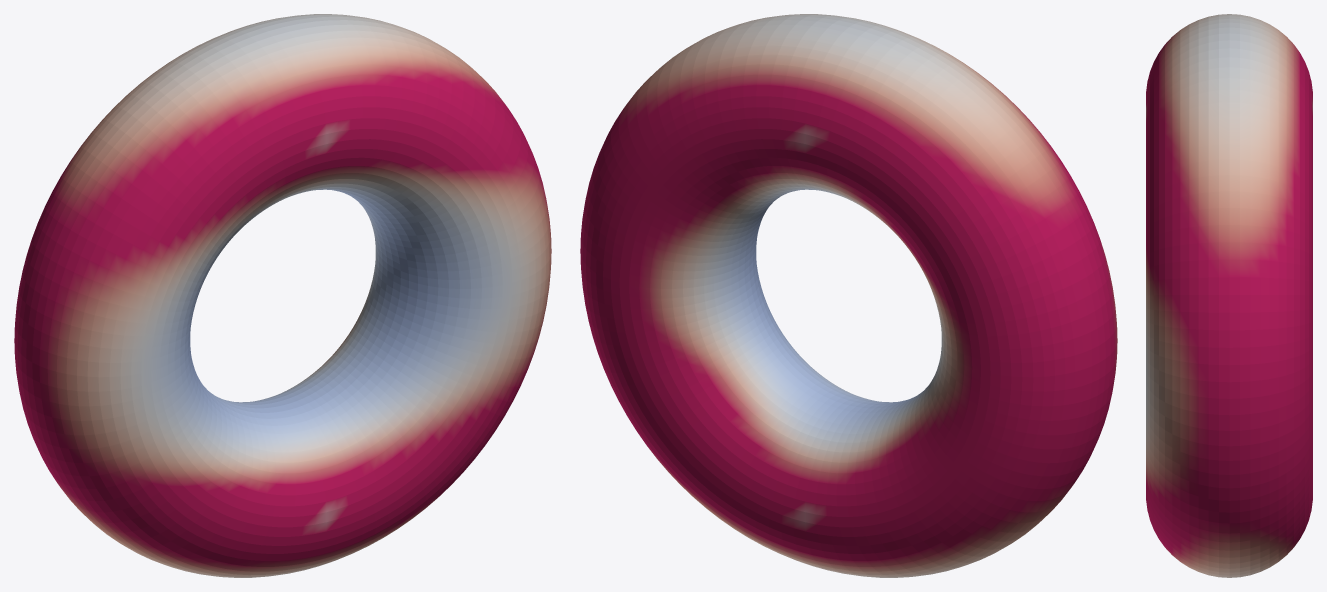
3 renders of one model, left to right at view 1: azimuth 30°, elevation 25°; view 2: azimuth 150°, elevation 25°; view 3: azimuth 270°, elevation 25°, orthographic. The views are drawn at different scales.
Parts seen in each view (by area): view 1: world; view 2: world; view 3: world.
Part boxes in pixels (x1,y1,x2,y2): world: [14, 14, 551, 577]; world: [580, 14, 1117, 577]; world: [1146, 14, 1312, 577].
Size of the model in its own units: 26.53 by 26.53 by 7.85.
